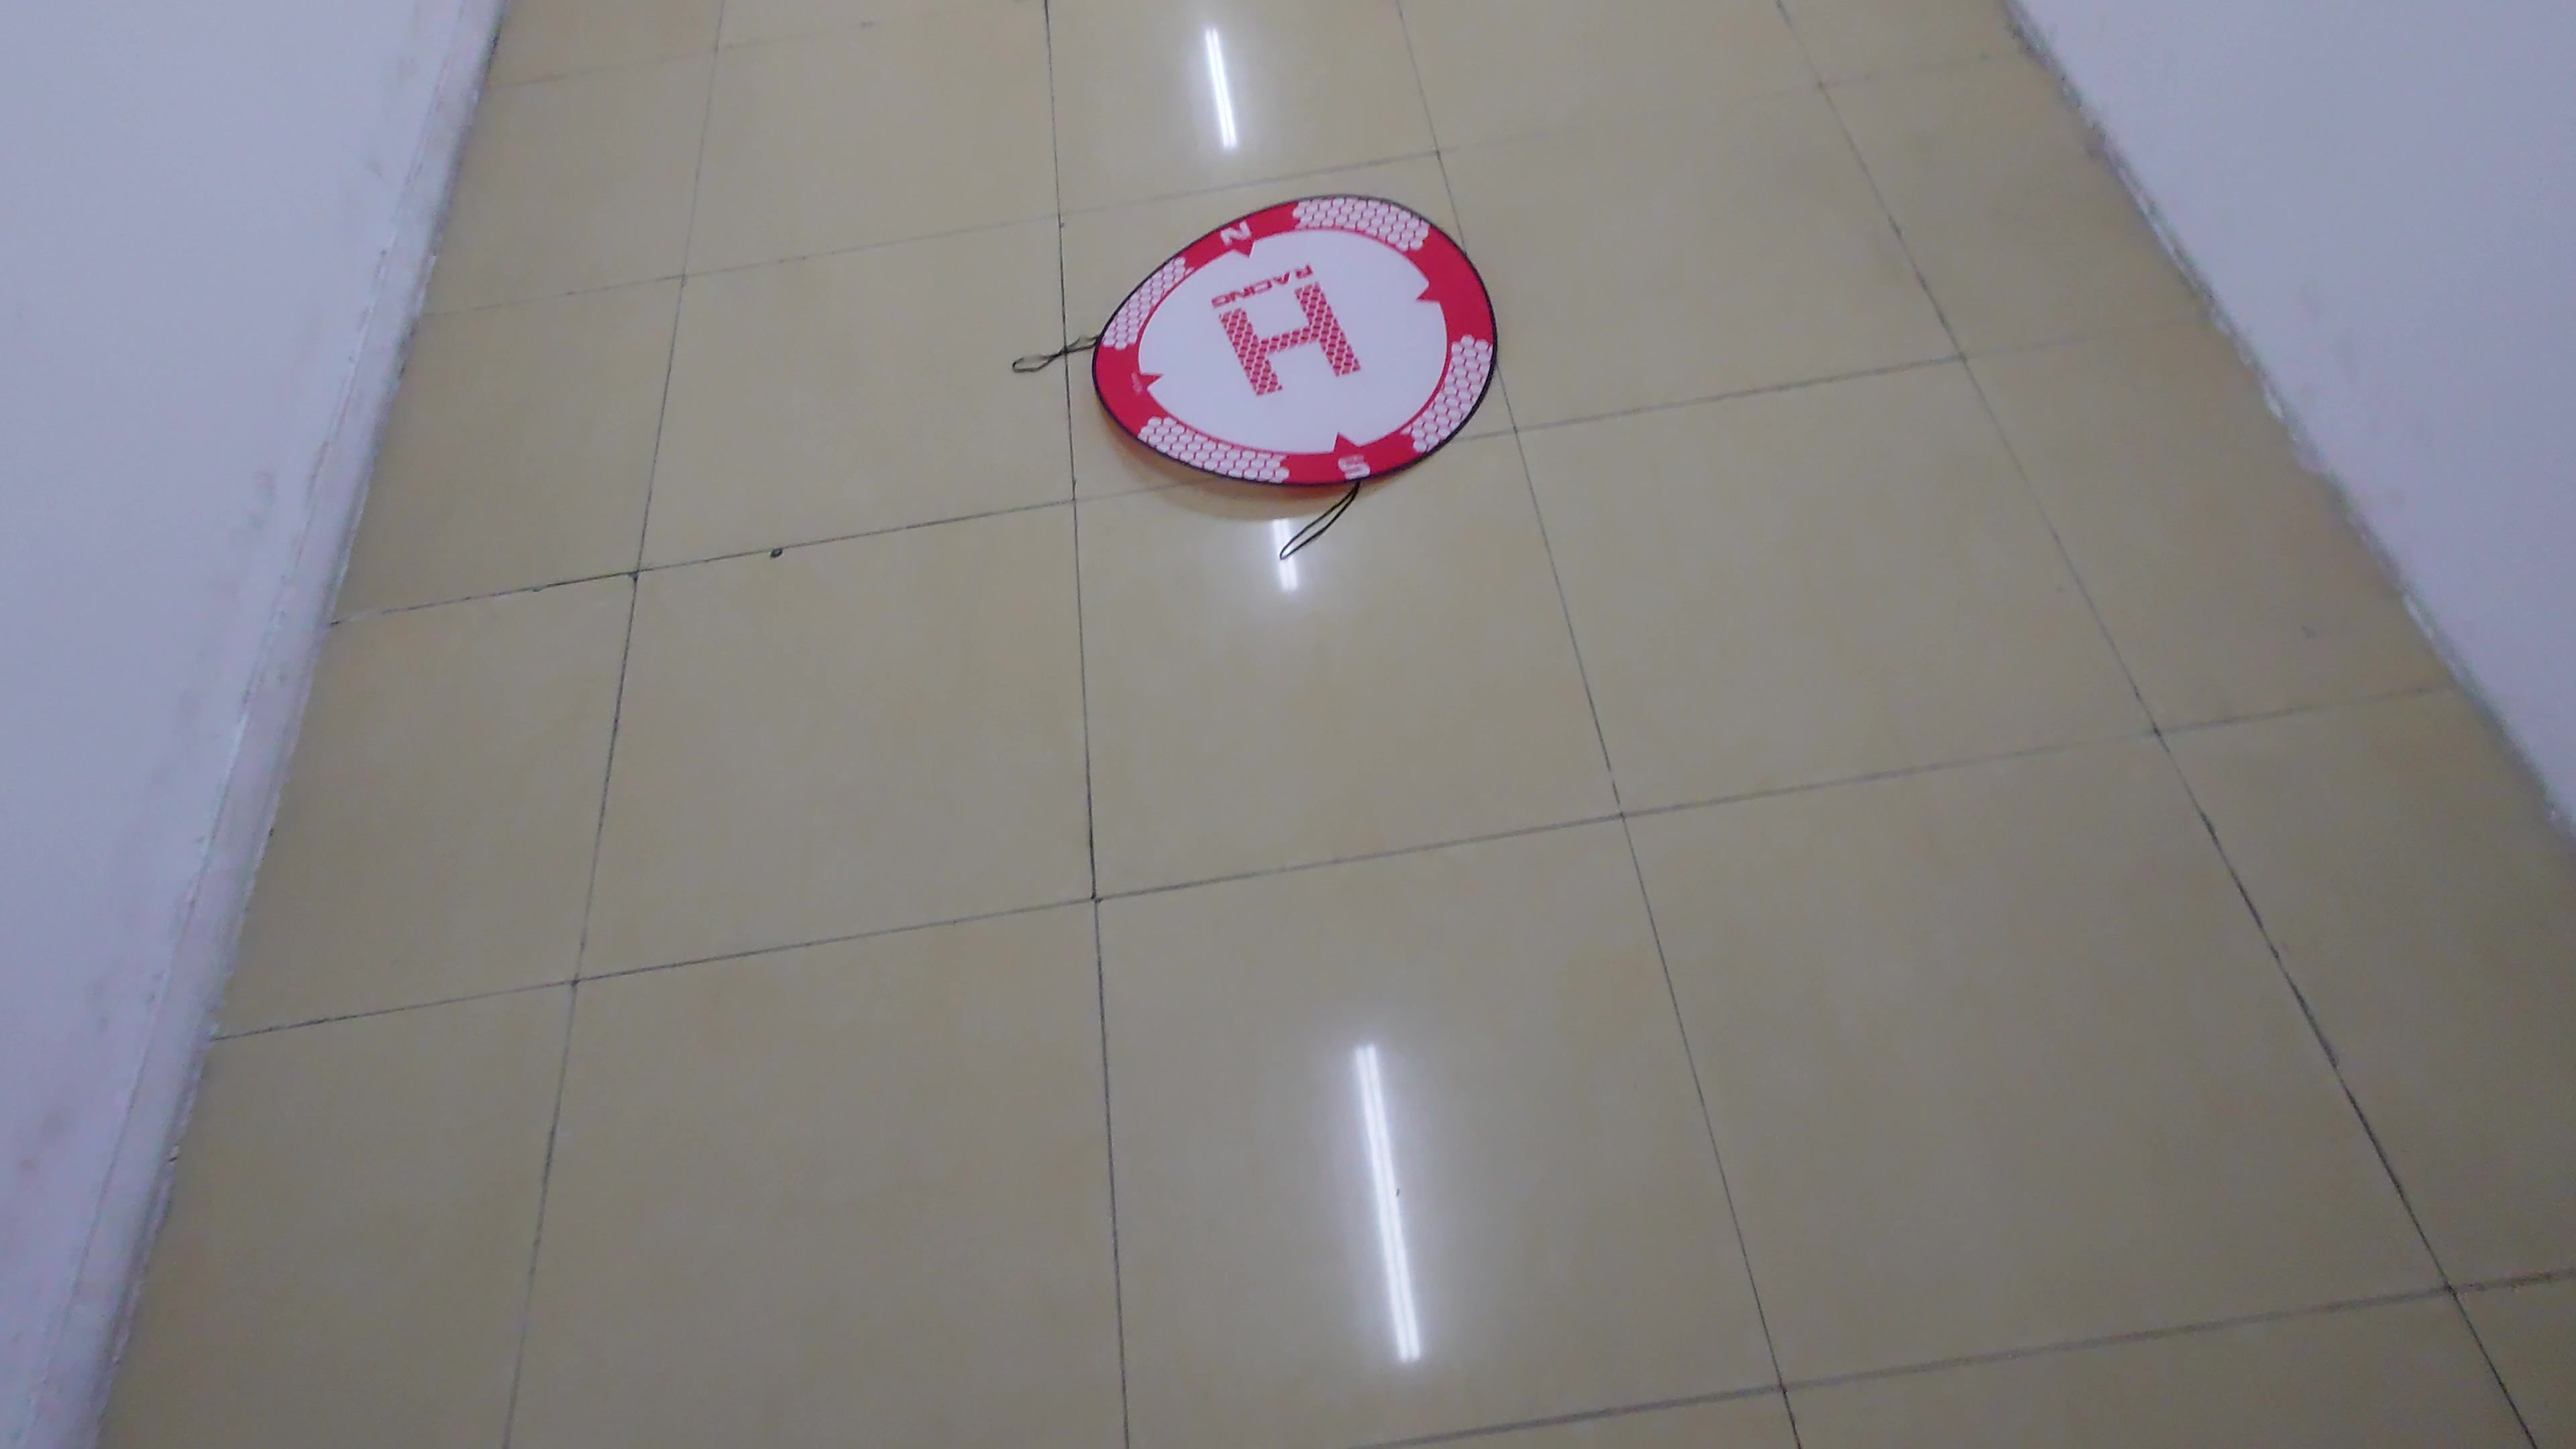H: (1217, 280, 1362, 396)
